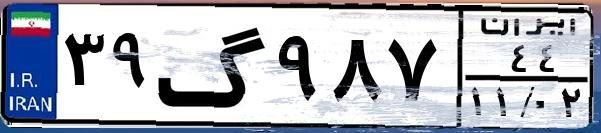0: (535, 70, 560, 125)
1: (470, 70, 495, 125), (495, 70, 520, 125)
2: (560, 70, 590, 125)
3: (57, 26, 110, 100)
4: (537, 27, 568, 80), (508, 27, 537, 80)
7: (385, 28, 445, 110)
8: (330, 28, 385, 110)
9: (270, 28, 330, 110), (110, 28, 156, 98)
گ: (156, 12, 270, 120)
